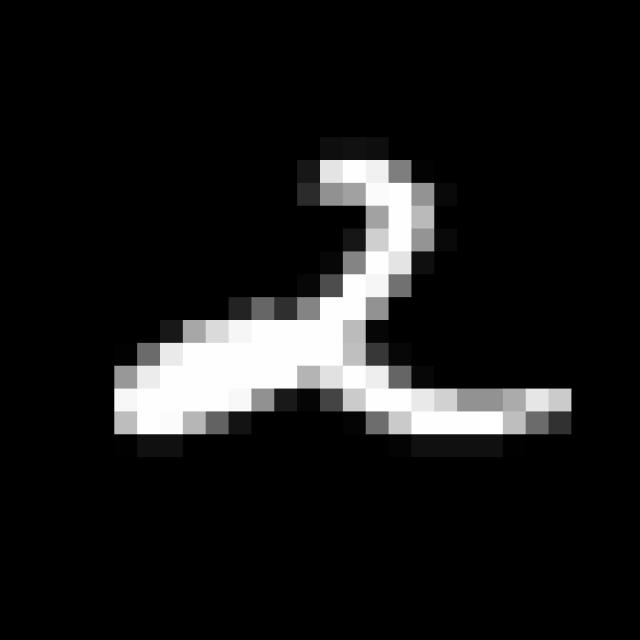two -2-: (94, 128, 593, 465)
